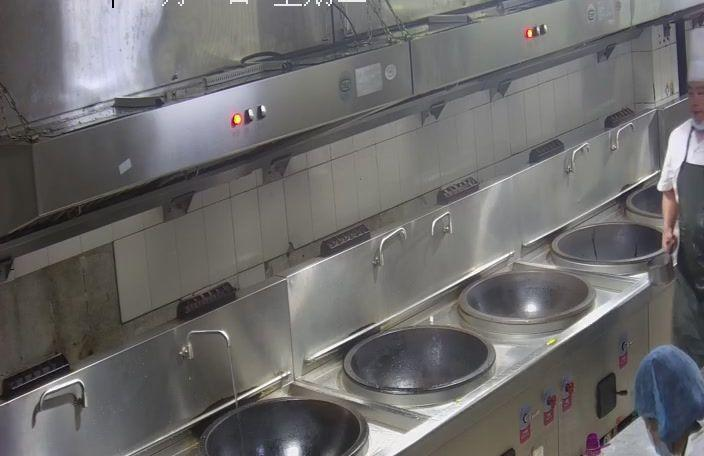mask: (687, 88, 704, 128)
